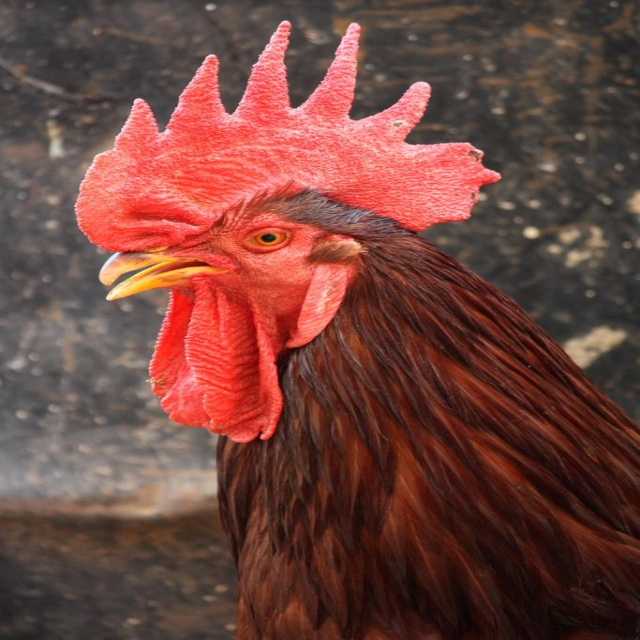Chicken: (74, 20, 640, 640)
